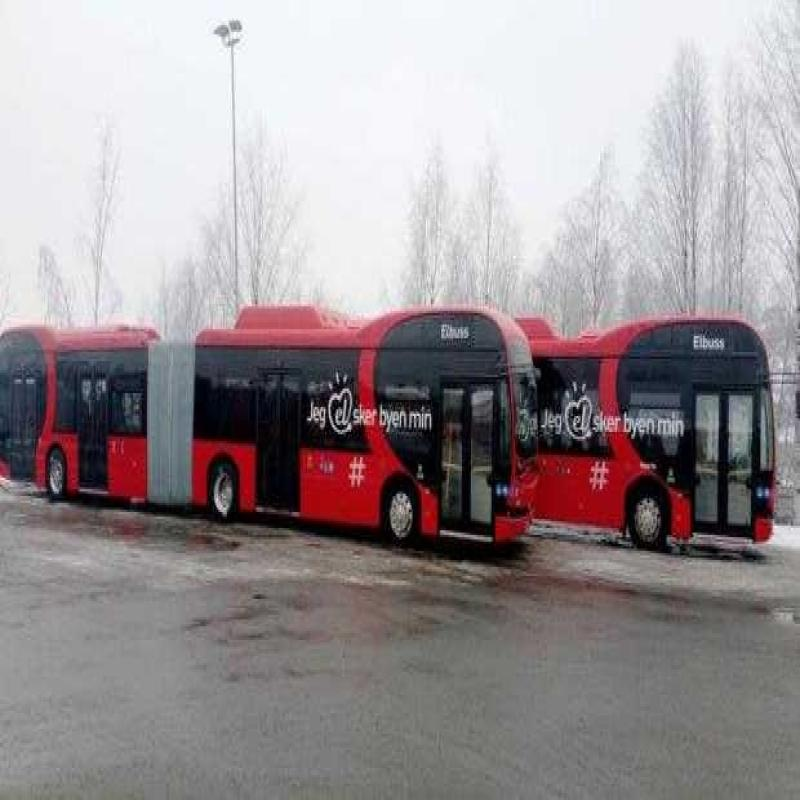bus: (17, 287, 555, 602), (556, 292, 776, 569)
